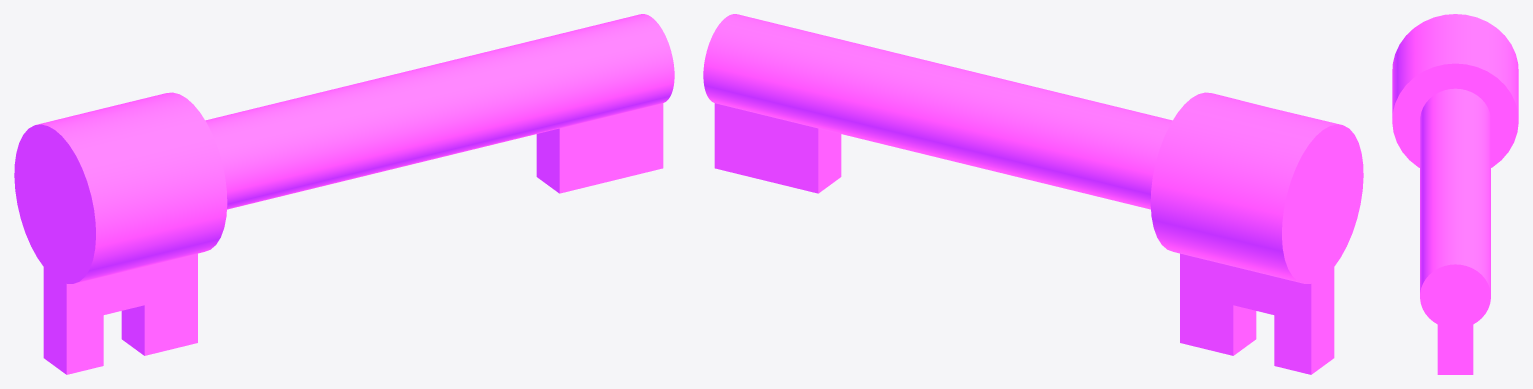
The model's file is clef2aviolet.gltf.
3 renders of one model, left to right at view 1: azimuth 30°, elevation 25°; view 2: azimuth 150°, elevation 25°; view 3: azimuth 270°, elevation 25°, orthographic. The views are drawn at different scales.
Visible parts, largest first — view 1: cle; view 2: cle; view 3: cle.
Boxes of the visible parts, <box> form: cle: <box>14,14,674,374</box>; cle: <box>703,14,1363,374</box>; cle: <box>1392,14,1518,374</box>.
Bounding box in the file's own units: 0.15 × 0.0568 × 0.0356.
